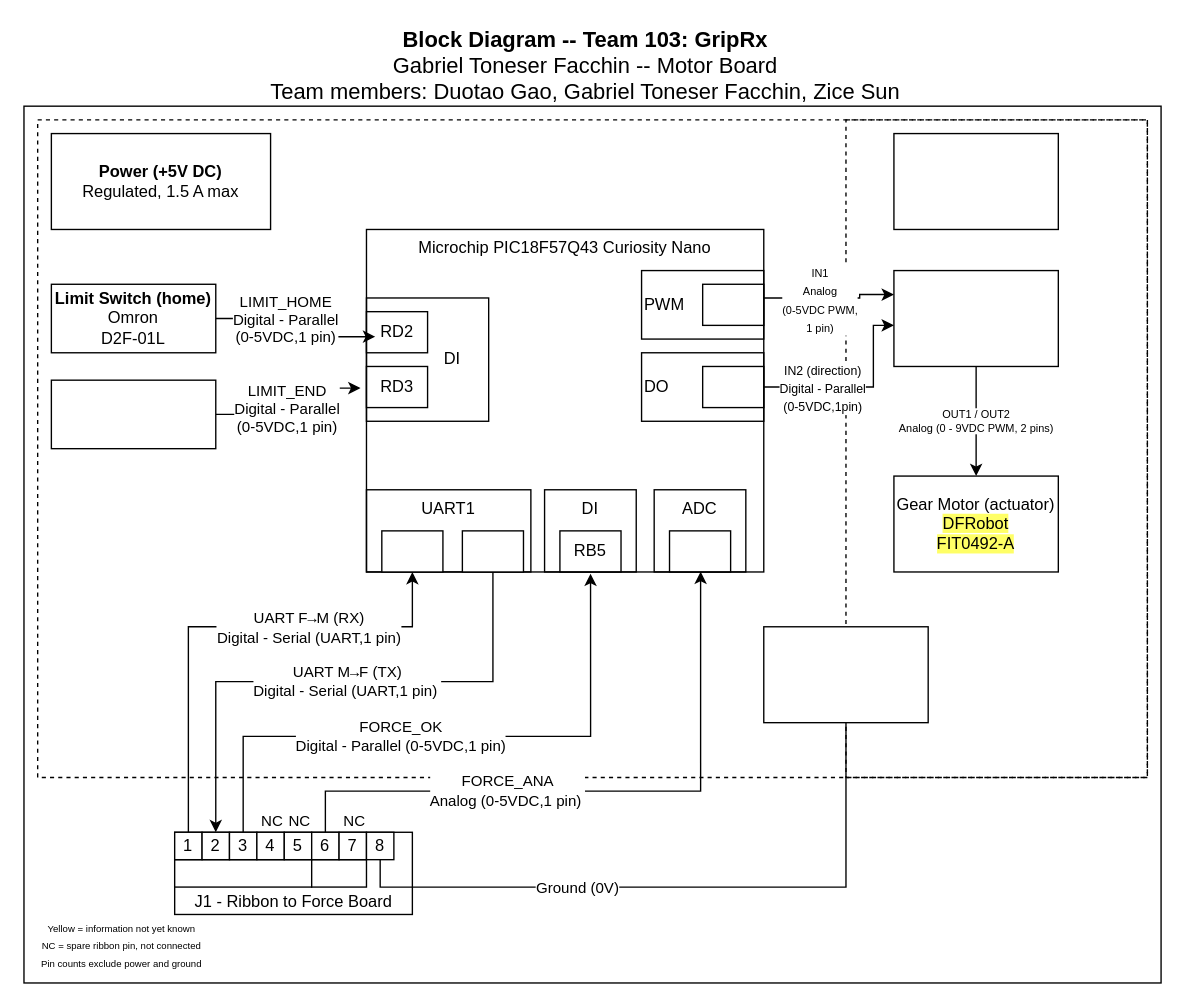
Image size: 1185x1007. Some labels were removed from this diagram. Each missing label, with the centre of its shape:
5V Linear Regulator STMicroelectronics L7805ABV-DG: pixel 845 674
analog: pixel 338 872
digital: pixel 242 872
H-Bridge Driver Texas Instruments DRV8871DDAR (current limit = 1A): pixel 975 317
Limit Switch (end) Omron D2F-01L: pixel 133 414
Power (+9V DC) Unregulated, 3 A max 9V 3A Wall Adapter BestCH Part #: pixel 975 180
RA0: pixel 699 551
RB3: pixel 732 304
RD1: pixel 732 386
RX RC3: pixel 411 551
TX RC2: pixel 492 551
